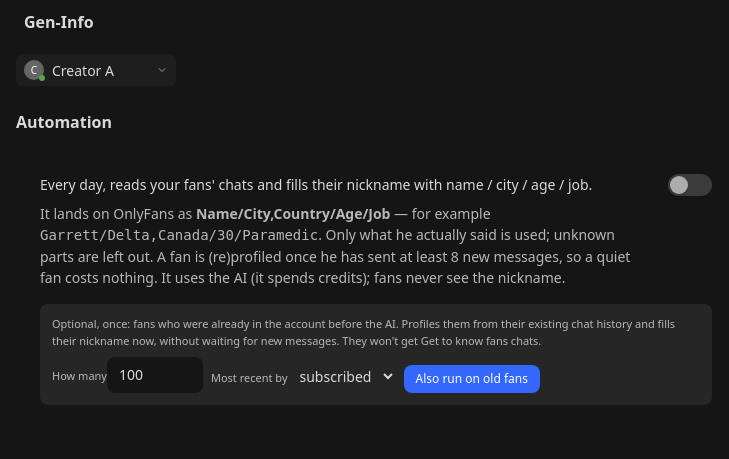
Test: Gen-Info page › runs the old fans once: process_old_fans over the 100 most recent, pushed to OnlyFans
Click the button "Also run on old fans" at (472, 379), box [404, 365, 540, 393]
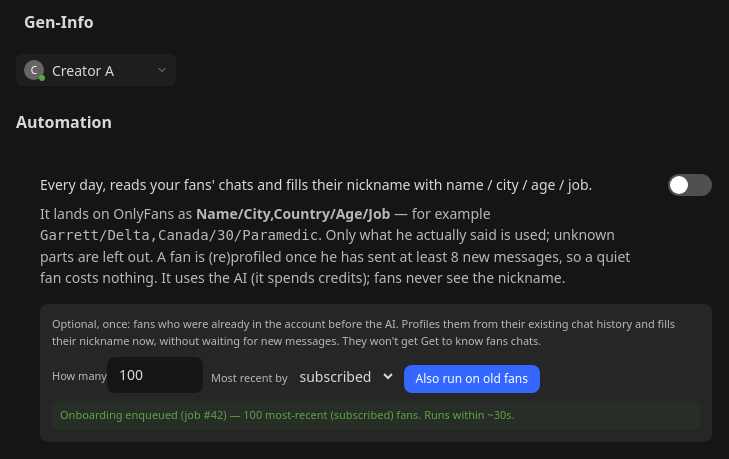
Check: the text "job #42" is shown, box [60, 407, 515, 422]
